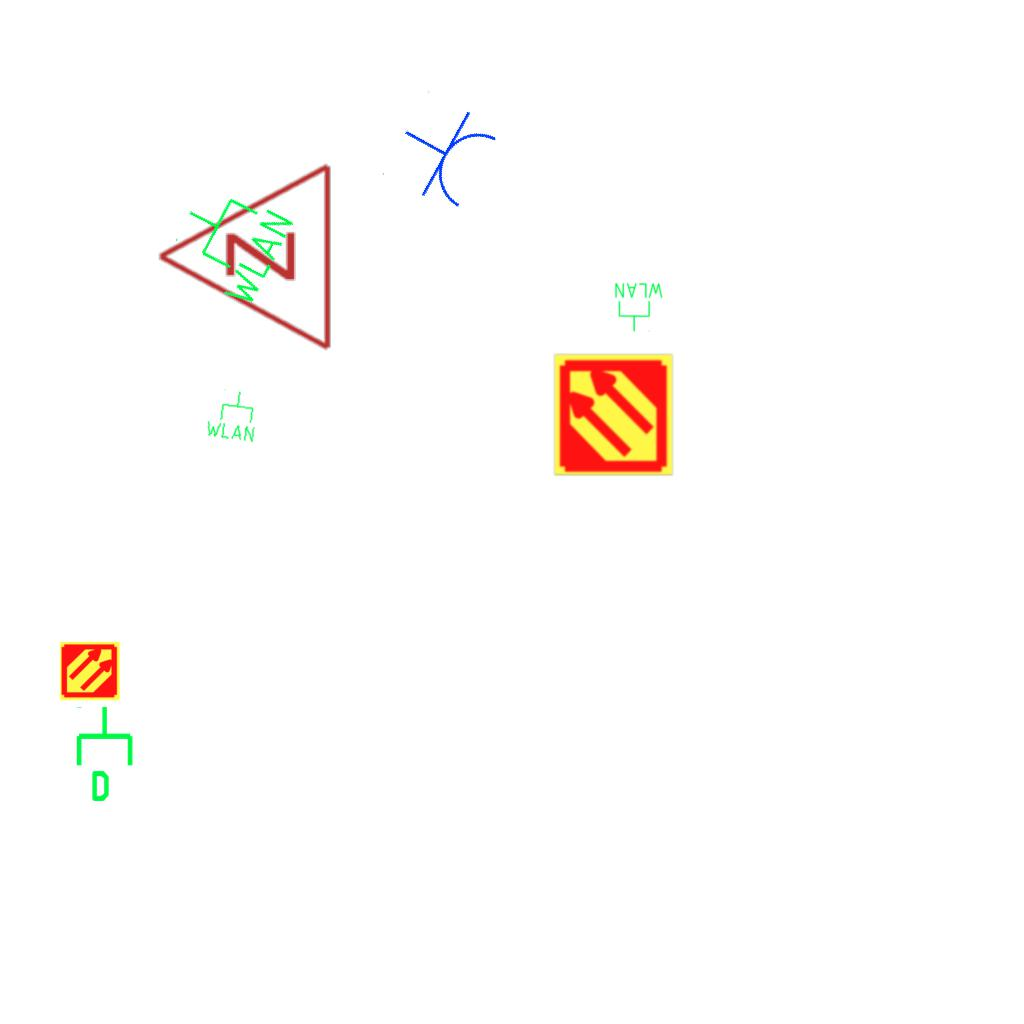ASR_Ansaugrauchmelder: (551, 352, 676, 477), (59, 640, 121, 702)
Datenanschluss_einfach: (72, 704, 141, 804)
Schukosteckdose_einfach: (380, 88, 506, 219)
WLAN: (158, 173, 300, 314), (203, 386, 261, 444), (613, 281, 665, 333)
Zimmersignalleuchte: (145, 161, 345, 357)
